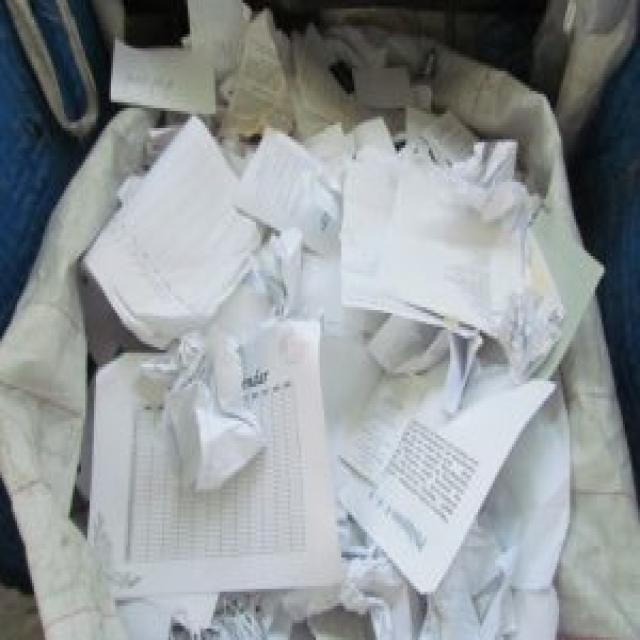Kertas: (78, 120, 590, 600)
